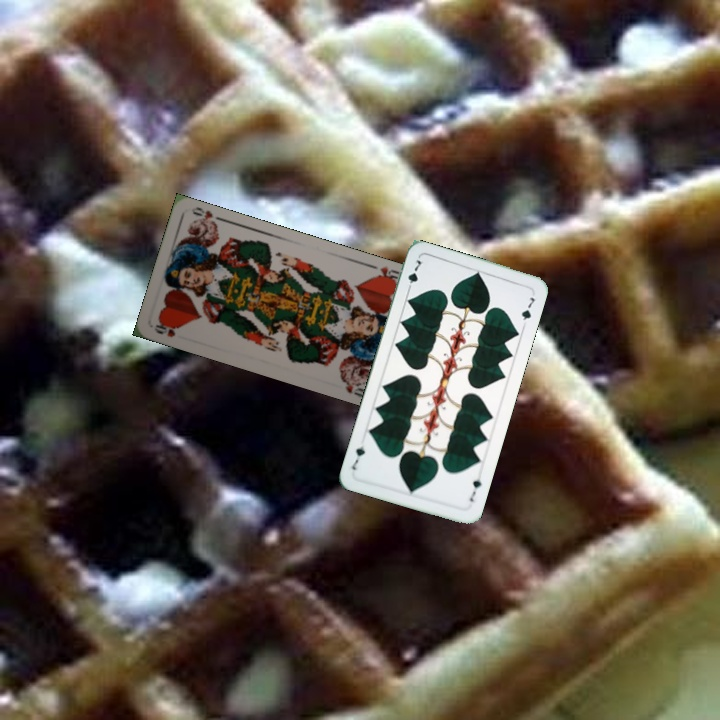G7: (403, 256, 425, 294), (466, 475, 484, 504)
HO: (368, 262, 402, 286), (150, 318, 181, 340)
